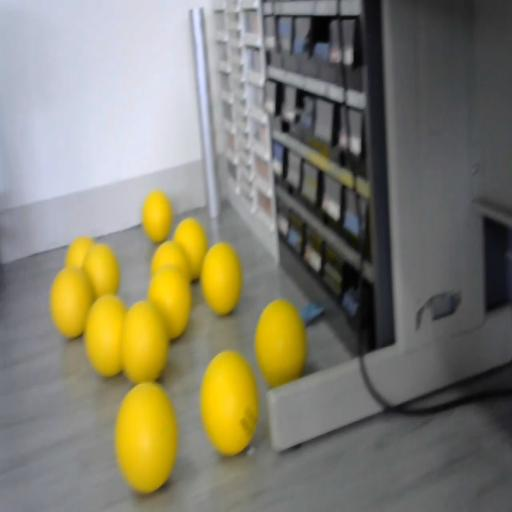FUEL: (114, 380, 178, 492), (199, 350, 260, 455), (254, 298, 306, 388), (84, 294, 127, 376), (148, 264, 192, 339), (50, 266, 94, 339), (200, 241, 242, 314), (174, 218, 208, 280), (142, 190, 172, 243), (66, 236, 95, 270)
